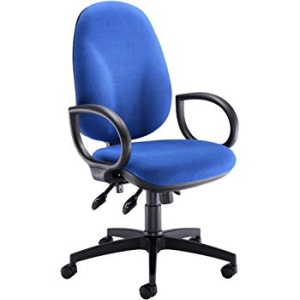chair: (60, 1, 239, 299)
